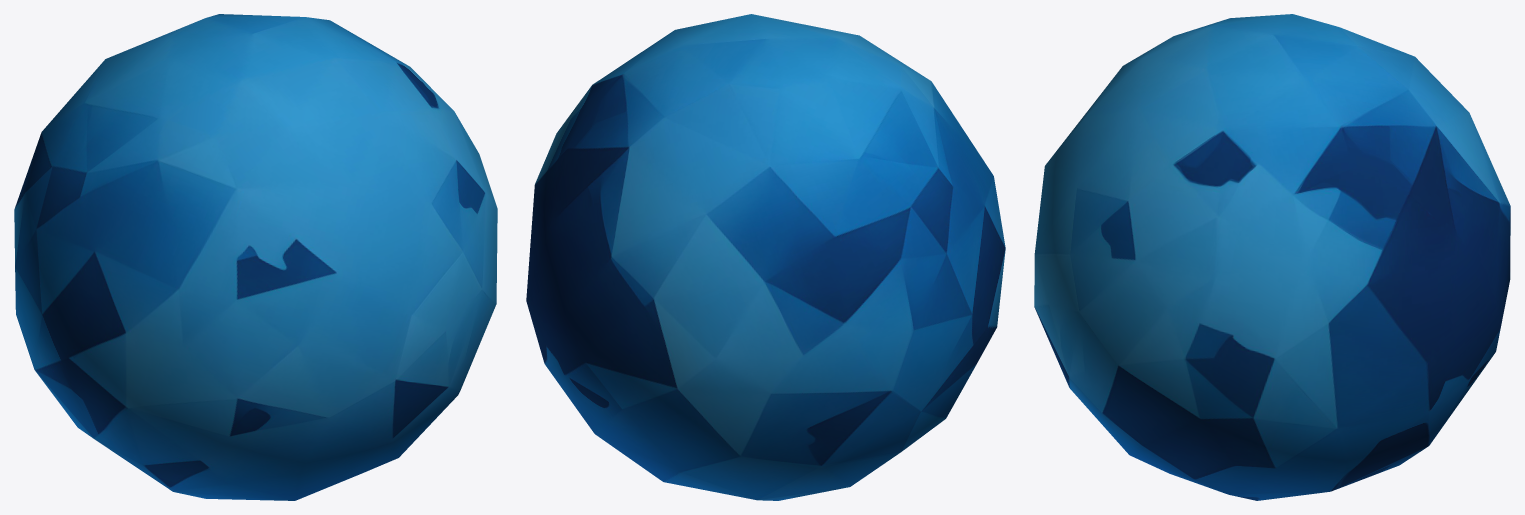
The model's file is neptune_planet_20260525.glb.
3 renders of one model, left to right at view 1: azimuth 30°, elevation 25°; view 2: azimuth 150°, elevation 25°; view 3: azimuth 270°, elevation 25°, orthographic.
Parts seen in each view (by area): view 1: material; view 2: material; view 3: material.
Boxes of the visible parts, x1,y1,x2,y2 form: material: (14, 14, 497, 500); material: (526, 14, 1005, 500); material: (1034, 14, 1510, 500).
Bounding box in the file's own units: 1.9 × 1.9 × 1.85.
Materials: 1 (1 with a texture image).
